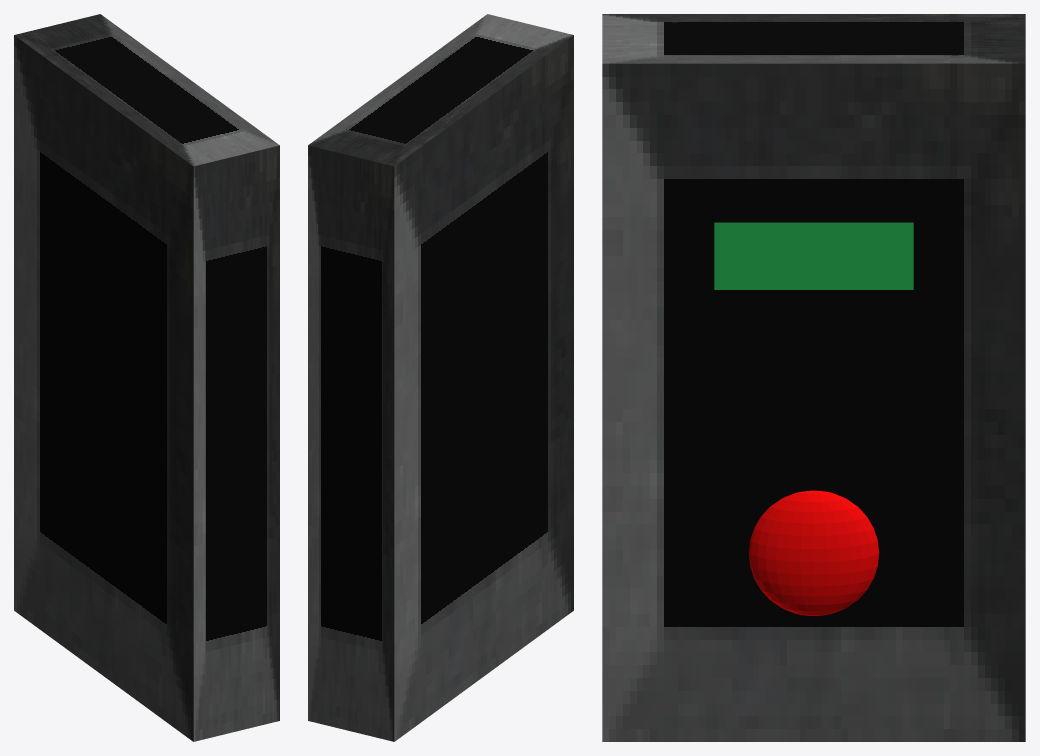
File: SCP button.obj
3 renders of one model, left to right at view 1: azimuth 30°, elevation 25°; view 2: azimuth 150°, elevation 25°; view 3: azimuth 270°, elevation 25°, orthographic. The views are drawn at different scales.
Parts seen in each view (by area): view 1: Cube_Cube.001; view 2: Cube_Cube.001; view 3: Cube_Cube.001, Cube.001_Cube.002, Sphere.
Boxes of the visible parts, bbox=[...] form: Cube_Cube.001: bbox=[14, 14, 279, 741]; Cube_Cube.001: bbox=[308, 14, 573, 741]; Cube_Cube.001: bbox=[602, 14, 1025, 741]; Cube.001_Cube.002: bbox=[714, 222, 913, 289]; Sphere: bbox=[748, 490, 879, 615].
Bounding box in the file's own units: 0.1136 × 0.6143 × 0.3473.
